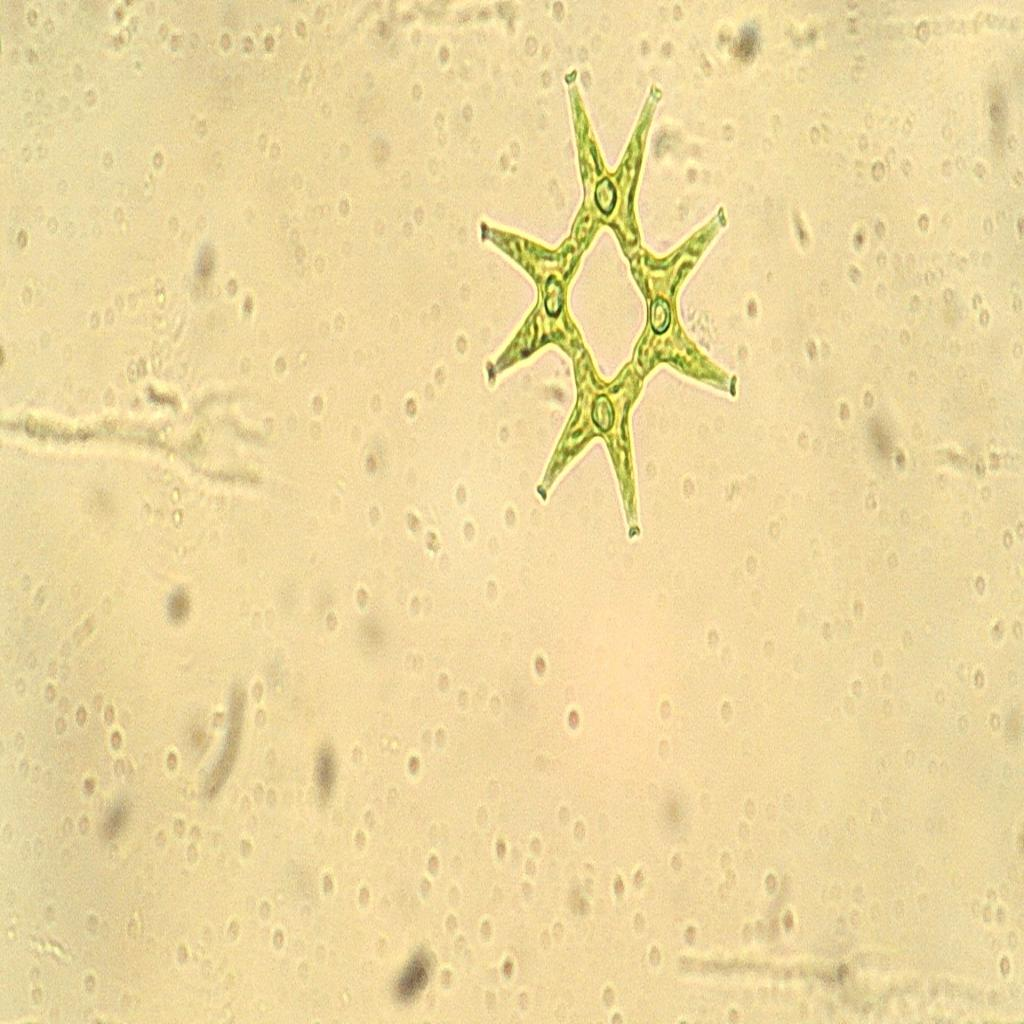Pediastrum_CO: (476, 58, 744, 558)
